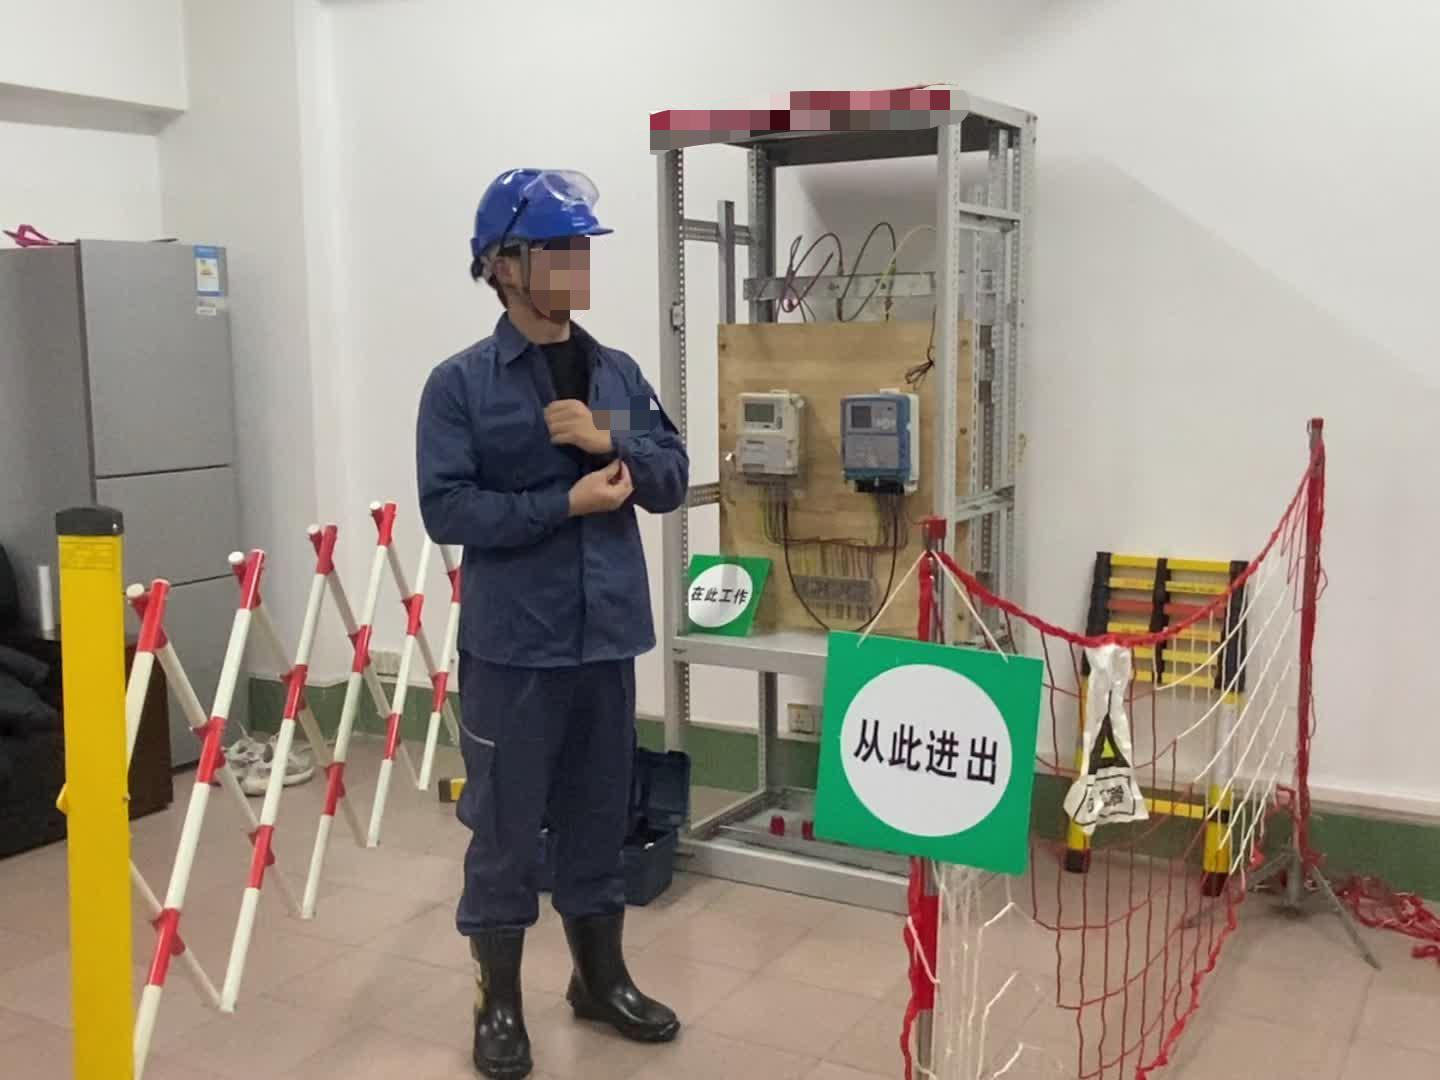halt: (468, 167, 617, 335)
inear: (486, 245, 547, 314)
